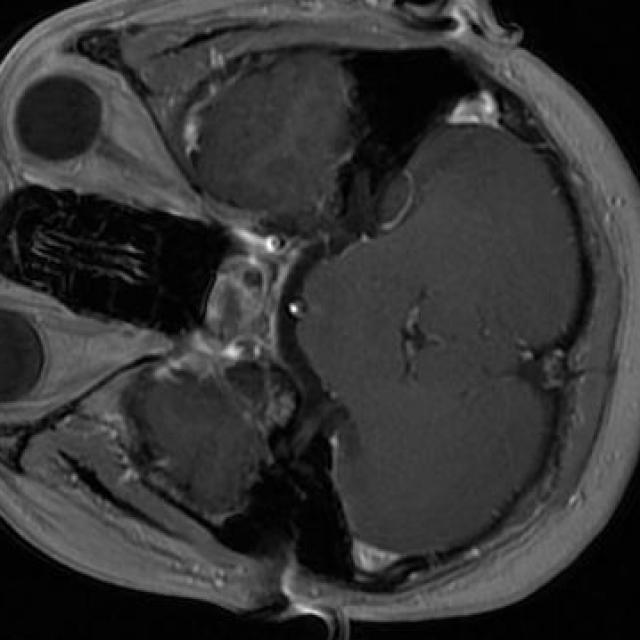pituitary: (205, 253, 269, 342)
